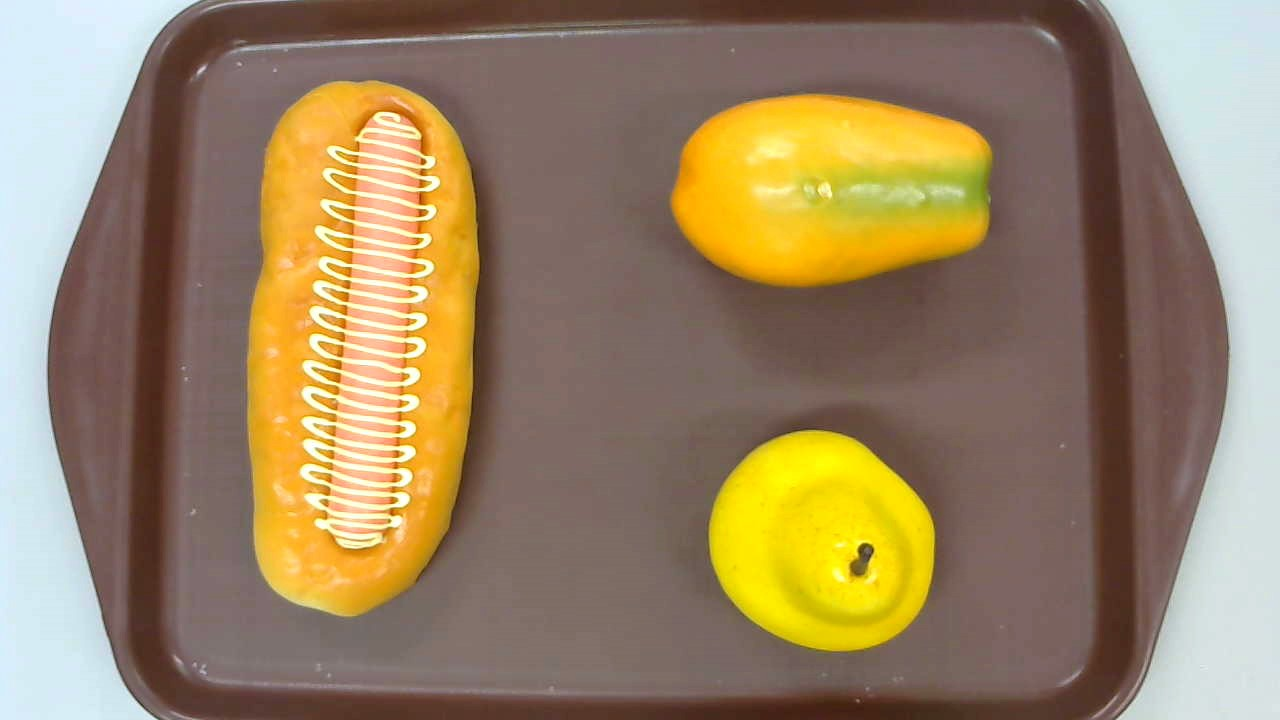hot dog: (241, 79, 479, 619)
papya: (667, 93, 995, 290)
yellow pear: (709, 430, 935, 652)
